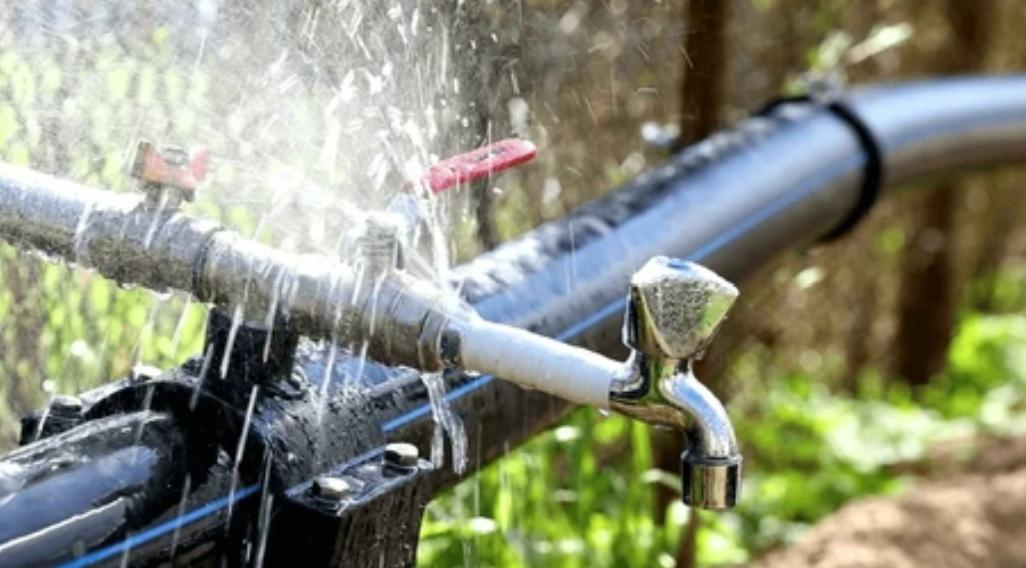pipe burst: (0, 0, 493, 345)
